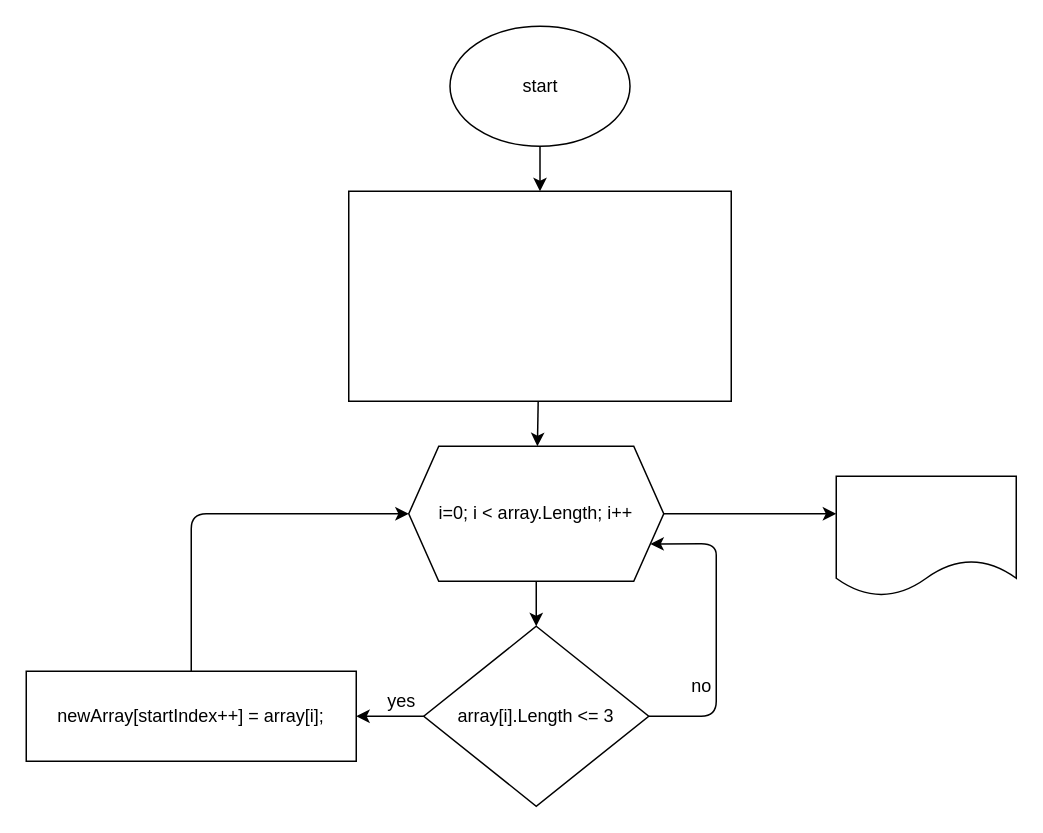
The diagram is 1043 pixels wide and 833 high, and some of its shapes have lost their labels. Each missing label, with the centre of its shape:
firstArray = {, , , , , , } newArray = new string[startIndex] startIndex = 0: pixel 539 295
return newArray: pixel 925 535
